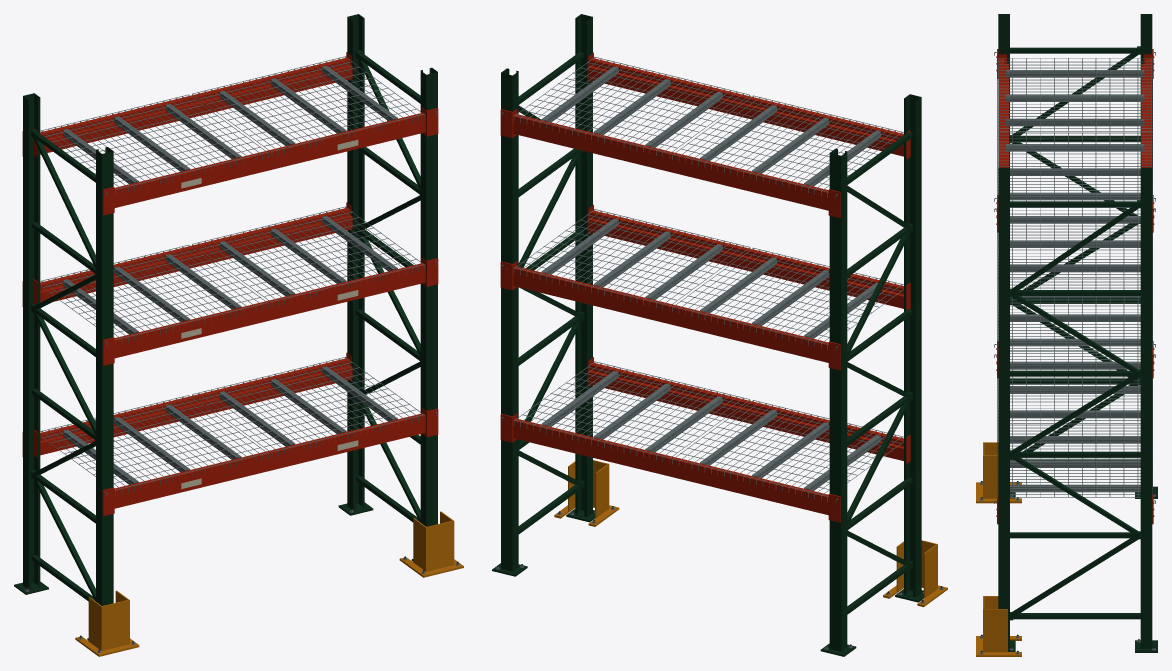
Rendered from warehouse-rack-lods.fbx.
3 renders of one model, left to right at view 1: azimuth 30°, elevation 25°; view 2: azimuth 150°, elevation 25°; view 3: azimuth 270°, elevation 25°, orthographic. The views are drawn at different scales.
Visible parts, largest first — view 1: Rack_LOD0; view 2: Rack_LOD0; view 3: Rack_LOD0.
Boxes of the visible parts, box(x1,y1,x2,y2) form: Rack_LOD0: box(14, 14, 463, 656); Rack_LOD0: box(492, 14, 947, 656); Rack_LOD0: box(976, 14, 1157, 656).
Size of what is drawn, in the model's own units: 284 by 366 by 126.
